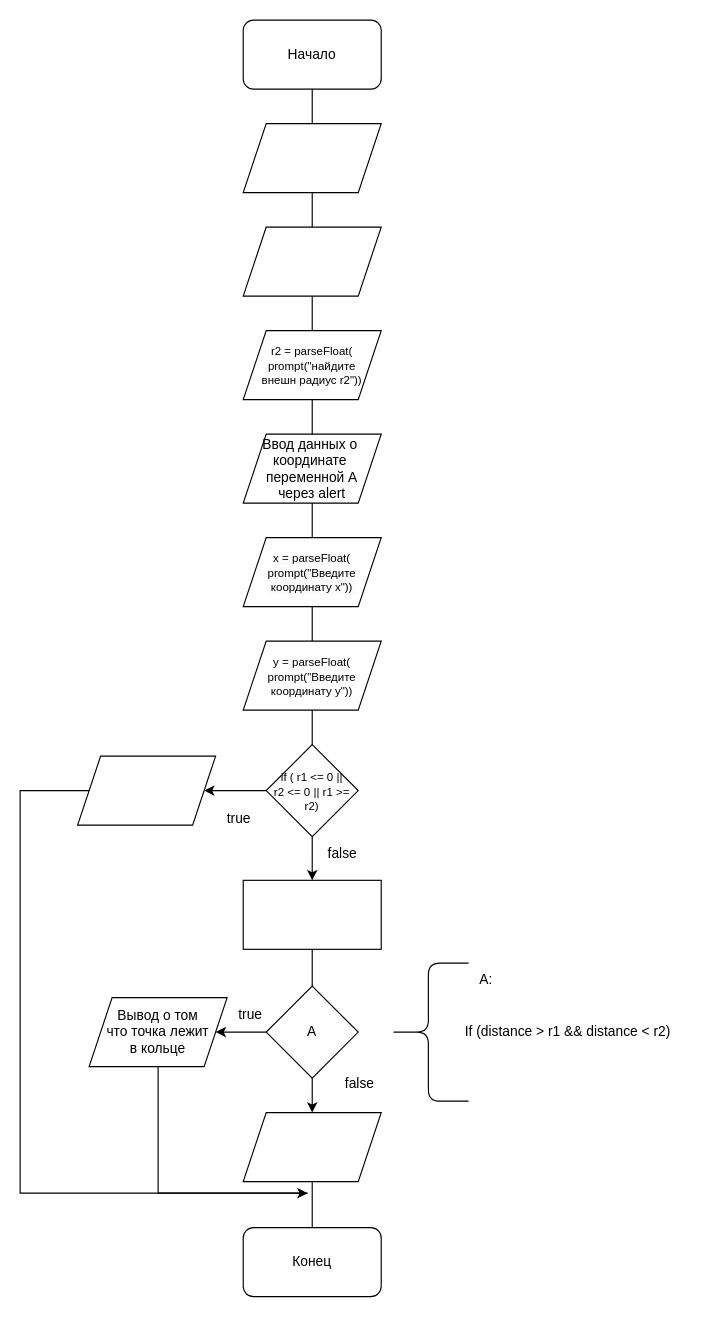
This 703x1317 diagram has some shape labels left out. Here are the shapes that lost their labels. From the top down, the centre of each, then its label:
pixel 311 157: Ввод данных о радиусе через alert
pixel 311 261: r1 = parseFloat( prompt("найдите внутр радиус r1"))
pixel 146 790: alert("Введите корректные данные")
pixel 311 914: distance = Math.sqrt (Math.pow(x,2) + Math.pow(y,2))
pixel 311 1146: Вывод о том что точка не лежит в кольце
